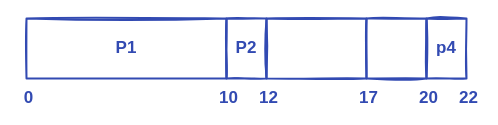
This 498x125 diagram has some shape labels left out. The shapes that lost their labels are listed below. From the top down, each one's centre as x and y in pixels, then its label:
At (316,48): "P5".
At (396,48): "P3".
